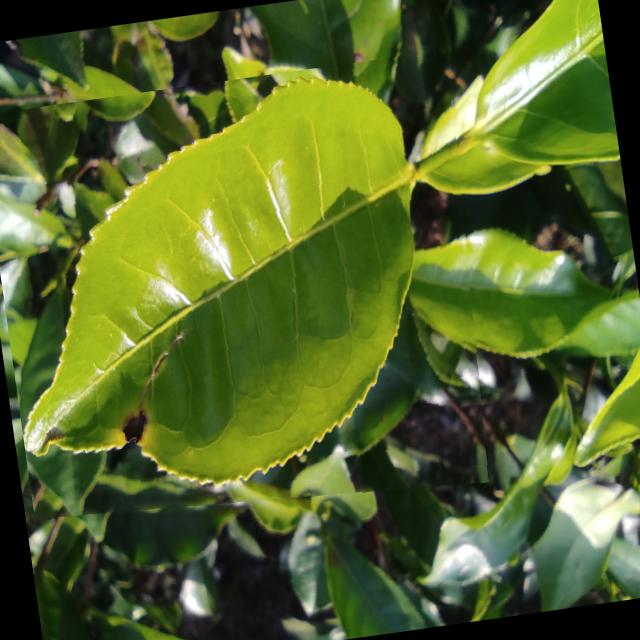Category B(2-4 days): (0, 49, 507, 545)
